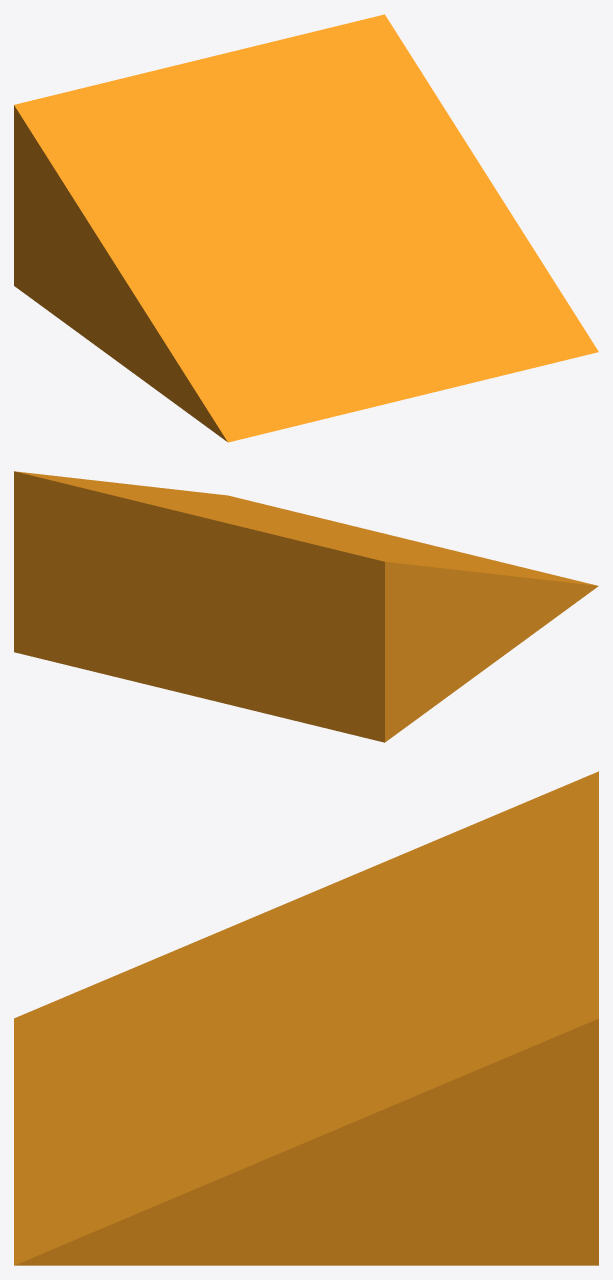
File: SM_Buildings_Ramp_25_1x1_01.fbx
The picture shows the model from 3 angles, top to bottom: view 1: azimuth 30°, elevation 25°; view 2: azimuth 150°, elevation 25°; view 3: azimuth 270°, elevation 25°; orthographic projection. The views are drawn at different scales.
Visible parts, largest first — view 1: SM_Buildings_Ramp_25_1x1_01; view 2: SM_Buildings_Ramp_25_1x1_01; view 3: SM_Buildings_Ramp_25_1x1_01.
Boxes of the visible parts, x1=… form: SM_Buildings_Ramp_25_1x1_01: x1=14, y1=14, x2=598, y2=442; SM_Buildings_Ramp_25_1x1_01: x1=14, y1=471, x2=598, y2=742; SM_Buildings_Ramp_25_1x1_01: x1=14, y1=771, x2=598, y2=1265.
Size of the model in its own units: 100 by 46.63 by 100.
